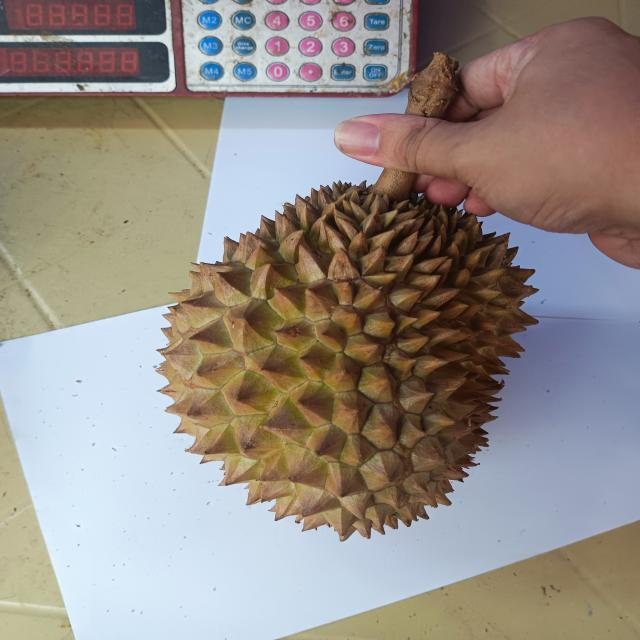mature: (152, 170, 536, 540)
